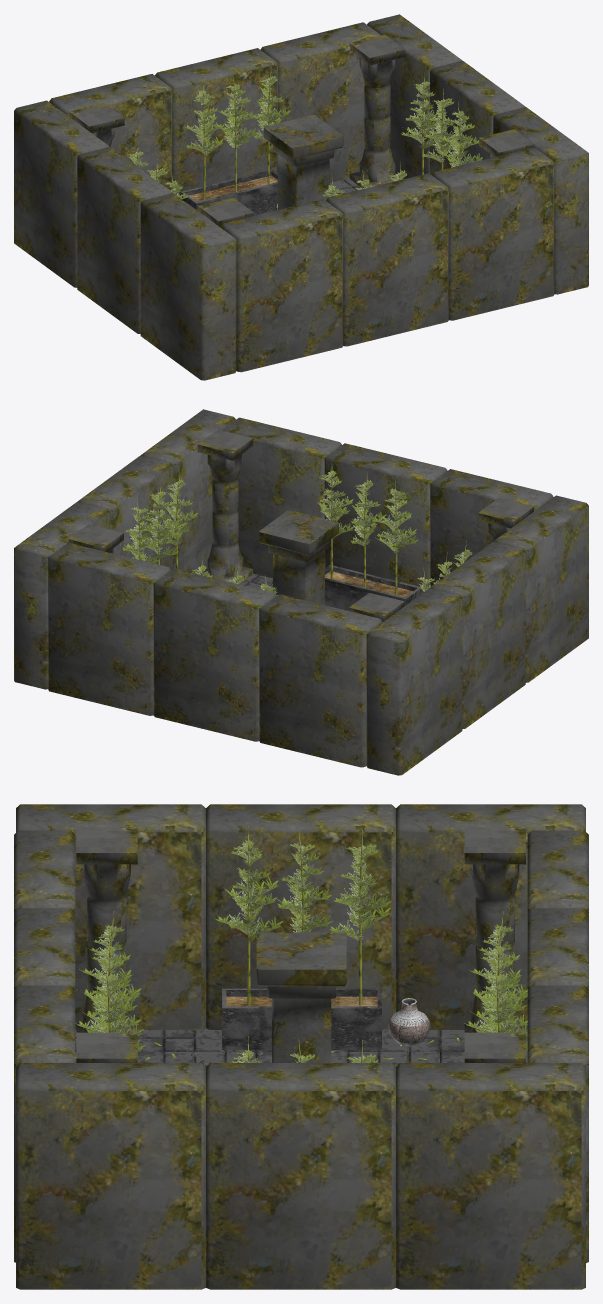
3 views of the same model, one above another, from view 1: azimuth 30°, elevation 25°; view 2: azimuth 150°, elevation 25°; view 3: azimuth 270°, elevation 25° (orthographic). The views are drawn at different scales.
Parts seen in each view (by area): view 1: Base_Geo, Bamboo, Base_Geo.001; view 2: Base_Geo, Bamboo, Base_Geo.001; view 3: Base_Geo, Bamboo, Base_Geo.001, Pot.
Boxes of the visible parts, box(x1,y1,x2,y2) form: Base_Geo: box(14, 14, 588, 380); Bamboo: box(127, 67, 482, 199); Base_Geo.001: box(263, 115, 343, 209); Base_Geo: box(14, 409, 588, 775); Bamboo: box(122, 462, 471, 595); Base_Geo.001: box(259, 510, 338, 604); Base_Geo: box(14, 804, 588, 1289); Bamboo: box(75, 826, 527, 1062); Base_Geo.001: box(256, 932, 346, 1062); Pot: box(388, 998, 430, 1046).
Bounding box in the file's own units: 2226 × 799 × 1873.
